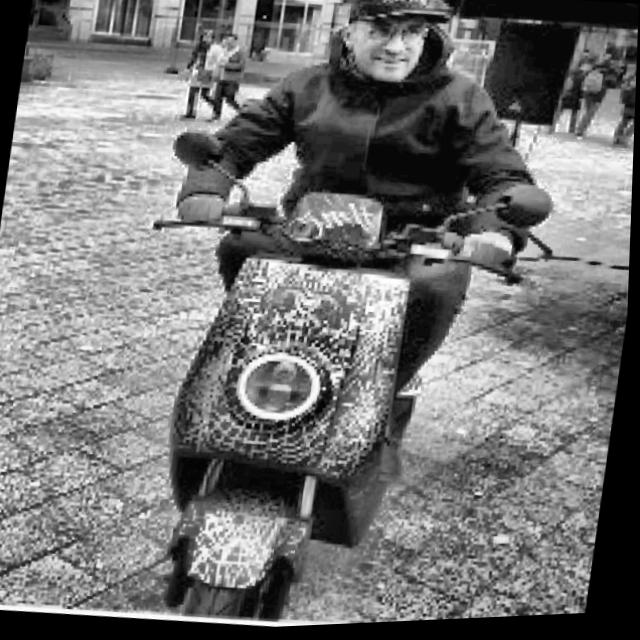motorcycle: (92, 107, 572, 636)
